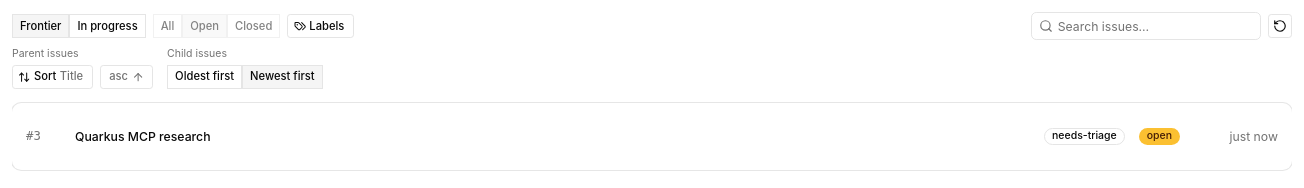
Test case: IssueList › applies the sort defaults and overwrites the snapshot on reset
Expected: the text "Quarkus MCP research" is shown, [75, 128, 211, 144]
Click the button named "reset".
click(1280, 26)  # box [1268, 14, 1292, 38]
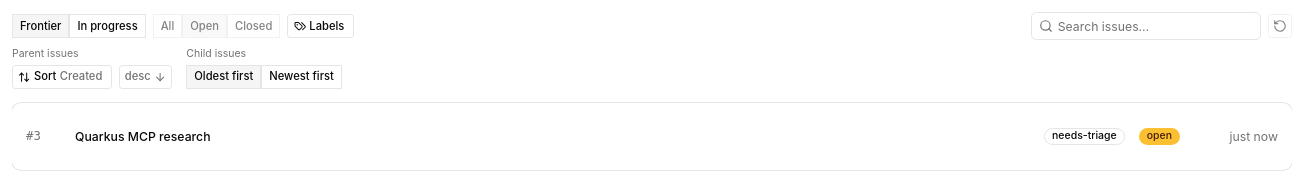
Result: the button named "reset" is disabled at [1268, 14, 1292, 38]
